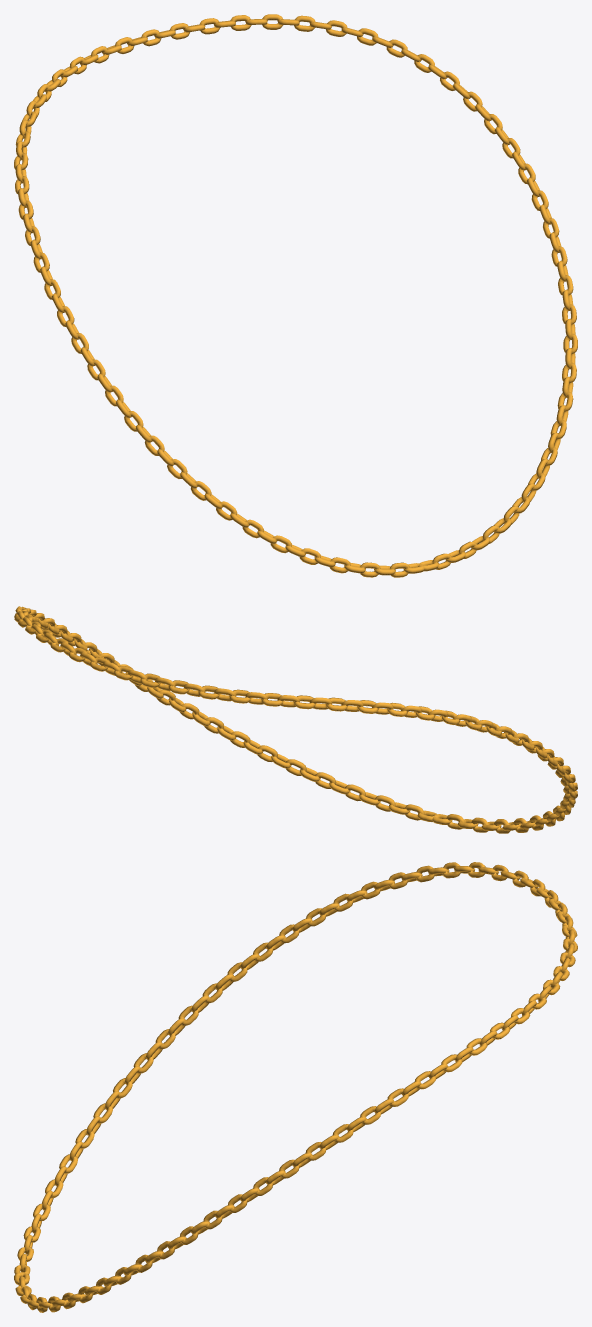
File: pure-gold-chain.glb
The picture shows the model from 3 angles, top to bottom: view 1: azimuth 30°, elevation 25°; view 2: azimuth 150°, elevation 25°; view 3: azimuth 270°, elevation 25°; orthographic projection.
Parts seen in each view (by area): view 1: metal; view 2: metal; view 3: metal.
Boxes of the visible parts, box(x1,y1,x2,y2) form: metal: box(14, 14, 577, 577); metal: box(14, 606, 577, 833); metal: box(14, 862, 577, 1312).
Size of the model in its own units: 13.5 by 9.16 by 13.37.
